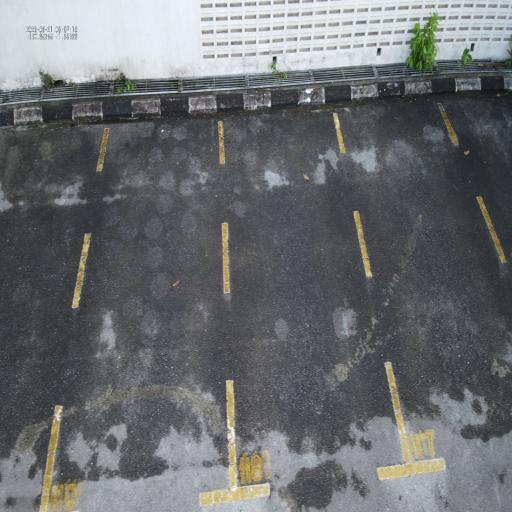Empty: (33, 103, 240, 512), (216, 98, 420, 503)
